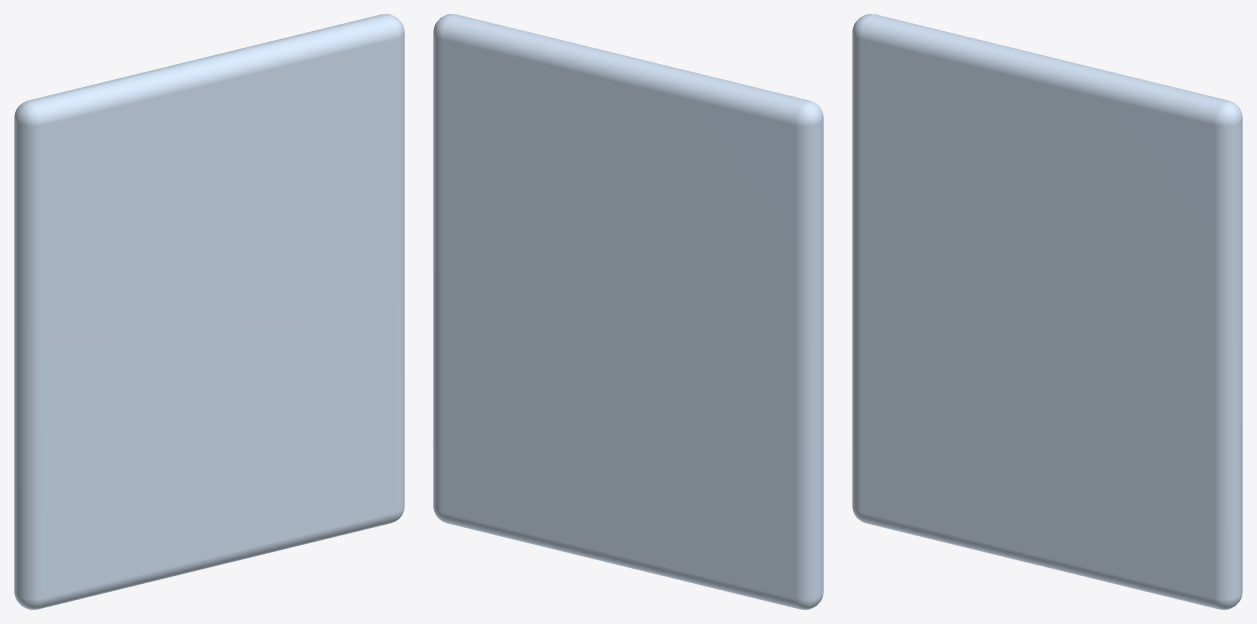
The model's file is spaceyew-home-cards.glb.
The picture shows the model from 3 angles, left to right: view 1: azimuth 30°, elevation 25°; view 2: azimuth 150°, elevation 25°; view 3: azimuth 330°, elevation 25°; orthographic projection.
Parts seen in each view (by area): view 1: OpticalCard_0, OpticalCard_1; view 2: OpticalCard_0, OpticalCard_1; view 3: OpticalCard_0, OpticalCard_1.
Boxes of the visible parts, box(x1,y1,x2,y2) form: OpticalCard_0: box(14, 14, 404, 609); OpticalCard_1: box(14, 14, 404, 609); OpticalCard_0: box(433, 14, 823, 609); OpticalCard_1: box(433, 14, 823, 609); OpticalCard_0: box(852, 14, 1242, 609); OpticalCard_1: box(852, 14, 1242, 609).
Size of the model in its own units: 2.34 by 2.94 by 0.2.
